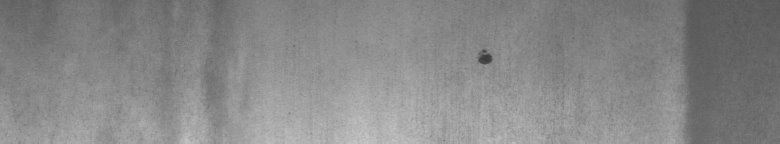fi: (472, 44, 496, 72)
